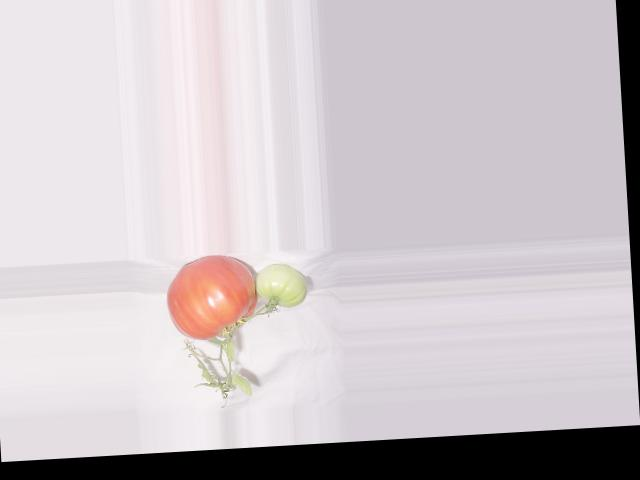tomato: (164, 253, 260, 342)
